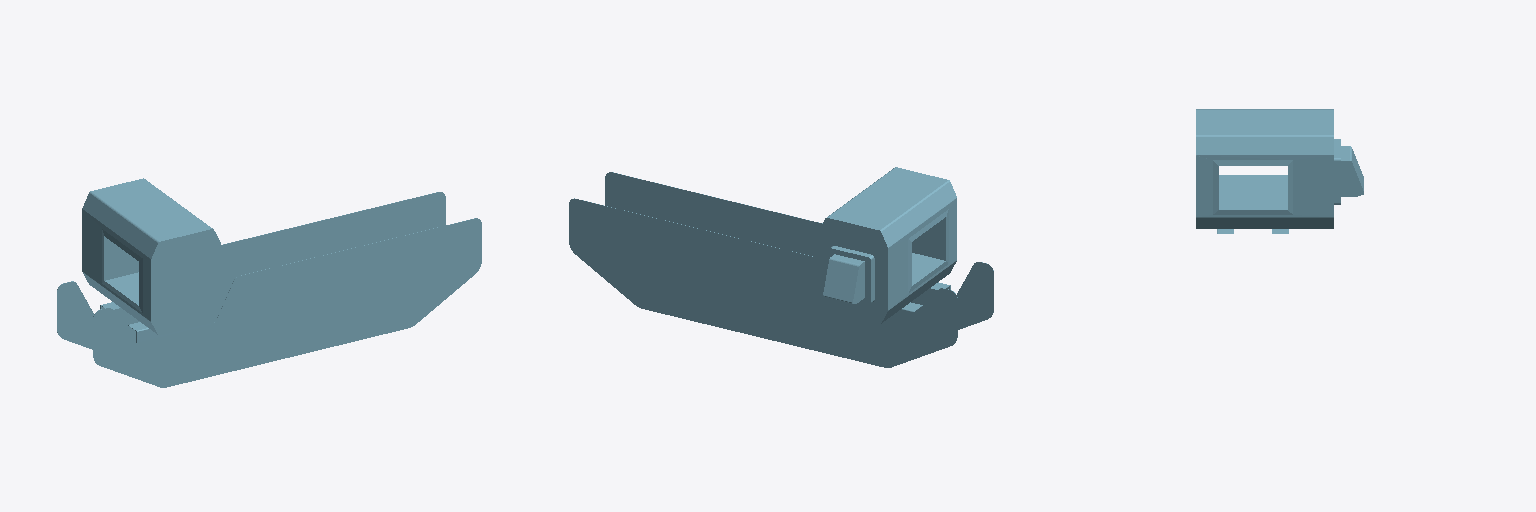
Rendered from conveor.obj.
The picture shows the model from 3 angles: view 1: azimuth 30°, elevation 25°; view 2: azimuth 150°, elevation 25°; view 3: azimuth 270°, elevation 25°; orthographic projection.
Visible parts, largest first — view 1: _ASSY,_METAL_DETECTOR_1069; view 2: _ASSY,_METAL_DETECTOR_1069; view 3: _ASSY,_METAL_DETECTOR_1069.
Boxes of the visible parts, <box> form: _ASSY,_METAL_DETECTOR_1069: <box>57,178,481,387</box>; _ASSY,_METAL_DETECTOR_1069: <box>569,167,993,367</box>; _ASSY,_METAL_DETECTOR_1069: <box>1196,109,1363,233</box>.
Bounding box in the file's own units: 7.8 × 3.02 × 2.93.